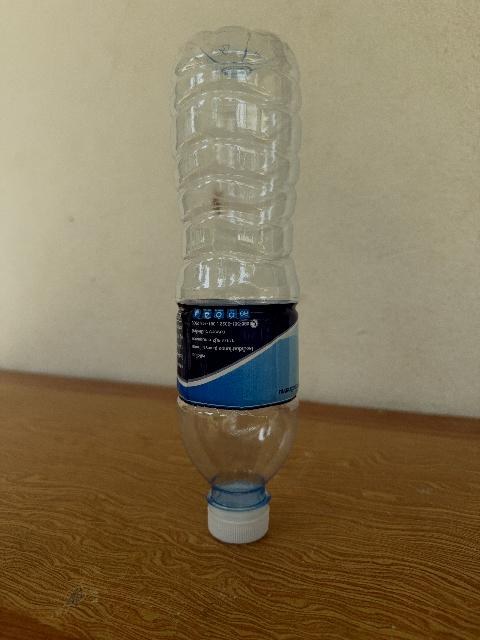bottle: (171, 27, 300, 543)
